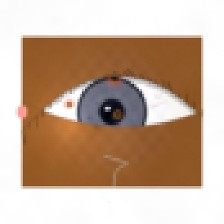foreign_body_visible: (106, 105, 129, 124)
